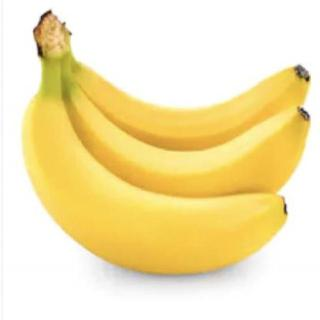banana: (21, 97, 290, 277), (54, 92, 312, 221), (66, 64, 312, 178)
